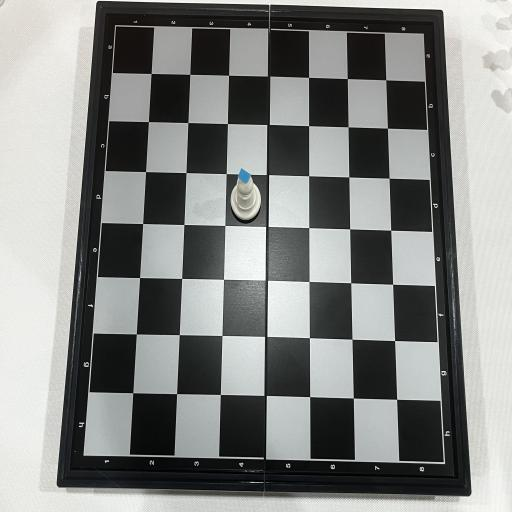White bishop: (230, 167, 260, 220)
